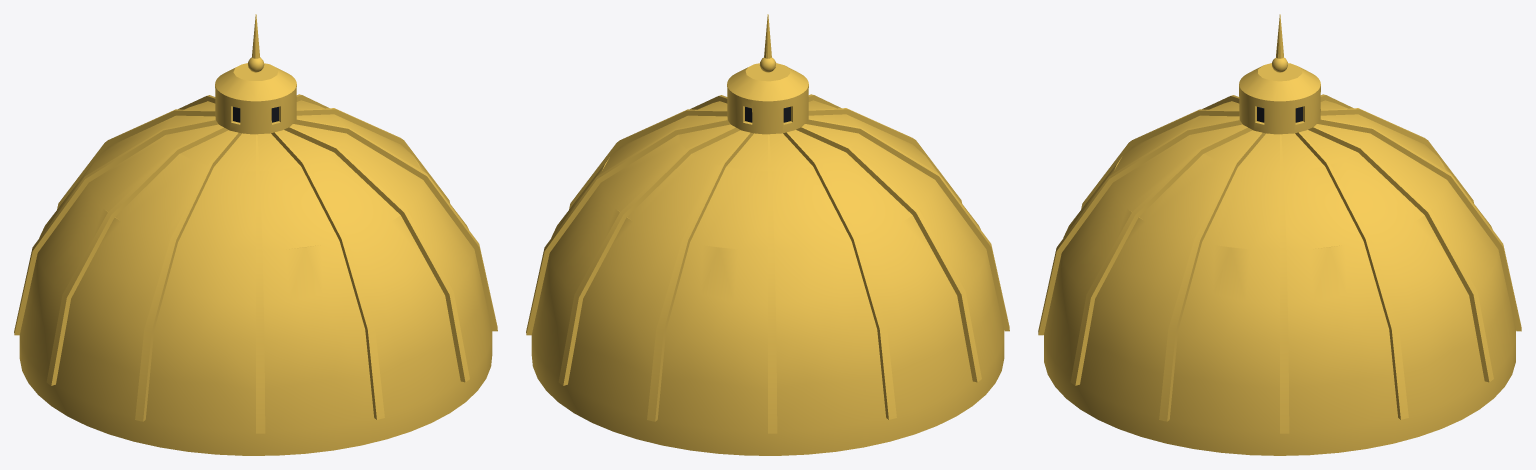
File: temple_dome.obj
3 views of the same model, side by side, from view 1: azimuth 30°, elevation 25°; view 2: azimuth 150°, elevation 25°; view 3: azimuth 270°, elevation 25° (orthographic).
Parts seen in each view (by area): view 1: temple_dome; view 2: temple_dome; view 3: temple_dome.
Part boxes in pixels (box(x1,y1,x2,y2)): temple_dome: box(14, 14, 497, 455); temple_dome: box(526, 14, 1009, 455); temple_dome: box(1038, 14, 1521, 455).
Bounding box in the file's own units: 5.32 × 4.15 × 5.32.
